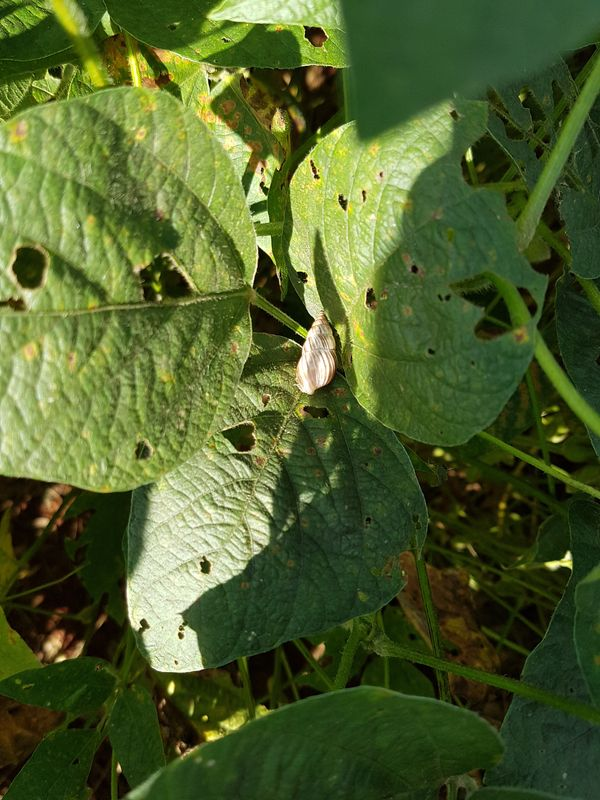Gastropoda: (274, 303, 366, 407)
